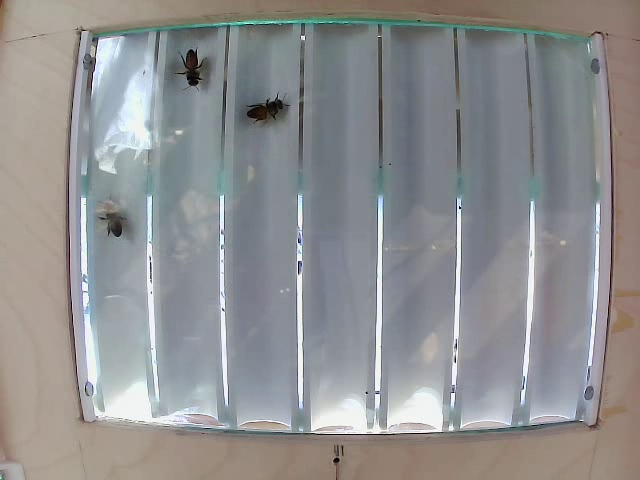bee: (252, 99, 299, 136), (95, 202, 134, 244), (174, 52, 210, 92)
